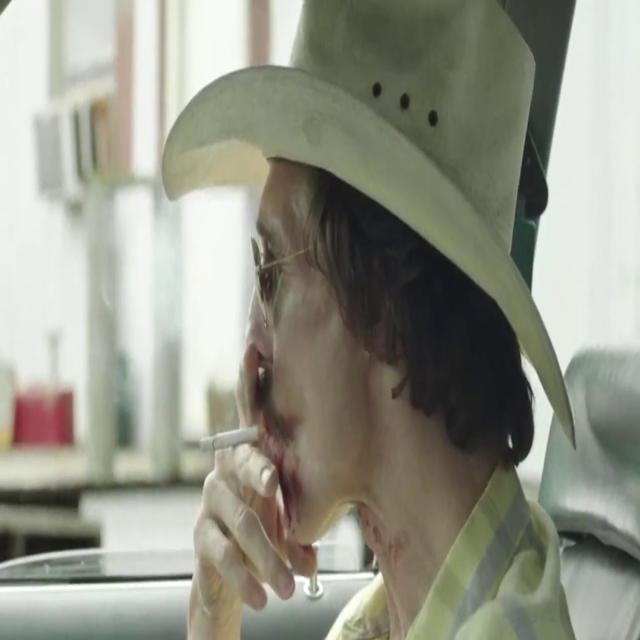Smooking: (193, 414, 265, 462)
